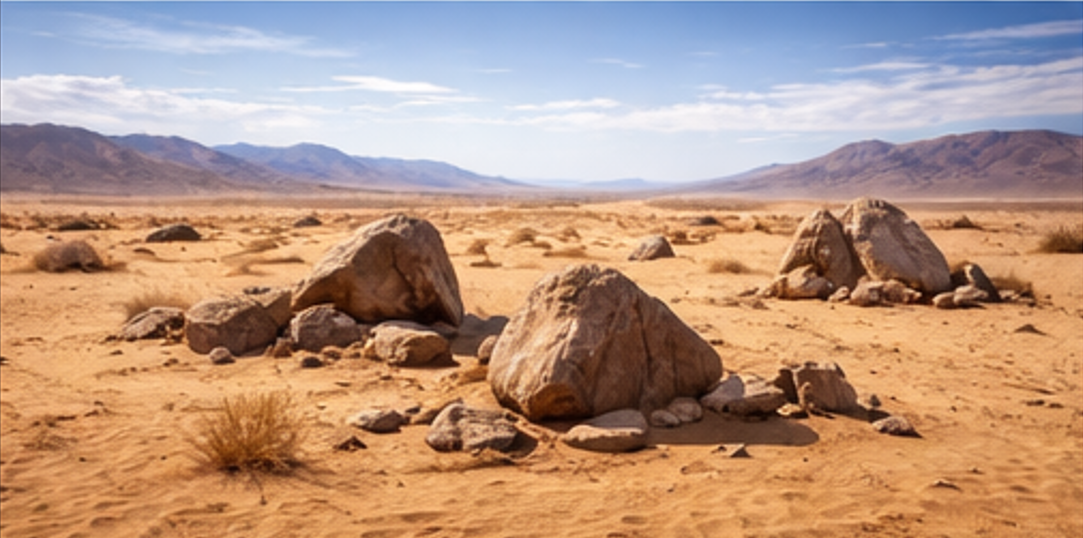rocks: (488, 265, 720, 418), (291, 214, 461, 325), (839, 198, 949, 294), (779, 209, 862, 288), (184, 296, 276, 353), (425, 402, 517, 451), (774, 361, 857, 410), (365, 320, 449, 365), (562, 408, 648, 451), (288, 304, 365, 351), (699, 374, 785, 415), (116, 306, 184, 339), (32, 240, 104, 271), (348, 408, 407, 431), (628, 234, 674, 259), (145, 223, 201, 241), (872, 415, 918, 436), (208, 346, 234, 364), (812, 295, 821, 296)
